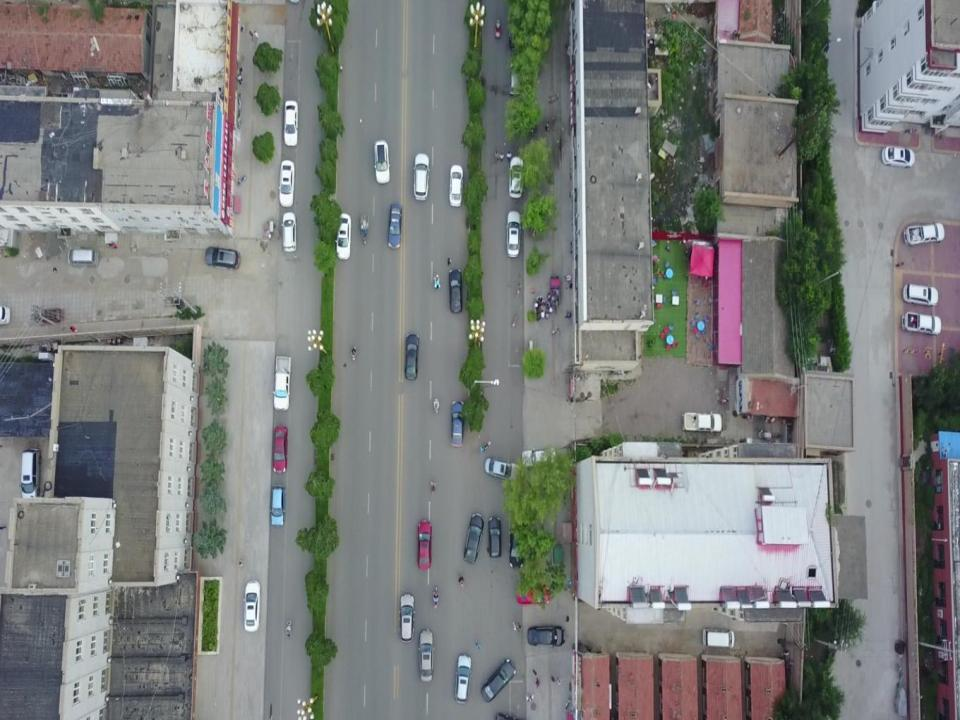car: (481, 658, 516, 703), (19, 448, 42, 502), (463, 513, 484, 564), (485, 456, 522, 482), (526, 624, 565, 648), (204, 245, 241, 270), (243, 580, 260, 632), (903, 283, 939, 307), (454, 654, 471, 704), (418, 629, 434, 682), (335, 212, 352, 260), (413, 154, 430, 202), (399, 594, 415, 643), (417, 520, 432, 570), (283, 100, 299, 146), (278, 161, 294, 207), (272, 426, 288, 472), (506, 211, 522, 257), (374, 139, 390, 183), (509, 526, 525, 569), (521, 448, 555, 468), (882, 146, 914, 167), (405, 333, 419, 380), (509, 157, 524, 199), (388, 204, 402, 248), (270, 486, 285, 526), (449, 268, 462, 314), (281, 212, 296, 251), (516, 586, 550, 603), (449, 165, 463, 206), (489, 517, 501, 557)
truck: (272, 357, 292, 410), (904, 221, 945, 246), (682, 411, 723, 433), (902, 313, 942, 335)
van: (702, 628, 734, 648), (67, 248, 98, 266), (509, 16, 524, 52), (509, 61, 522, 95)
